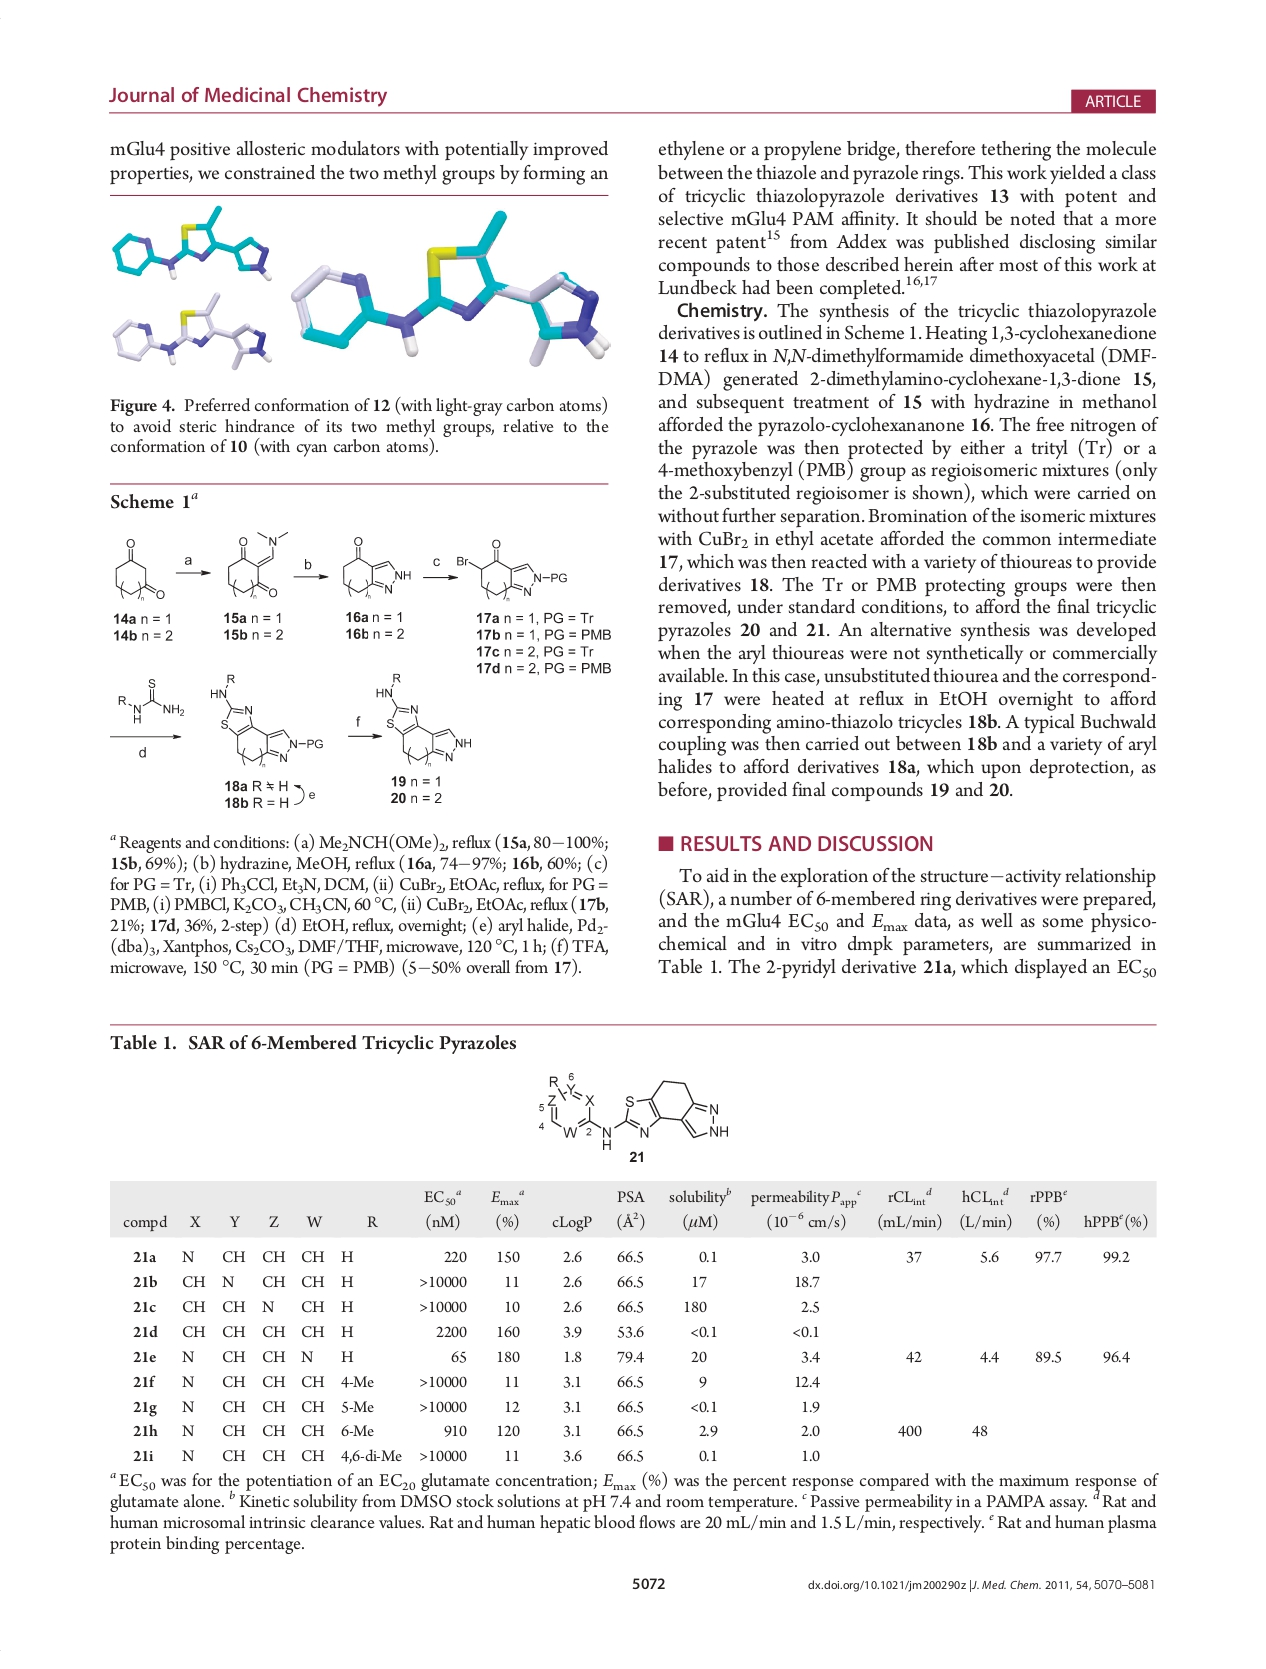exist_molecular: (547, 1072, 731, 1150), (206, 672, 326, 769), (372, 672, 475, 767), (453, 537, 573, 605), (335, 533, 416, 602), (226, 529, 289, 602), (113, 672, 188, 729), (110, 535, 168, 604)
